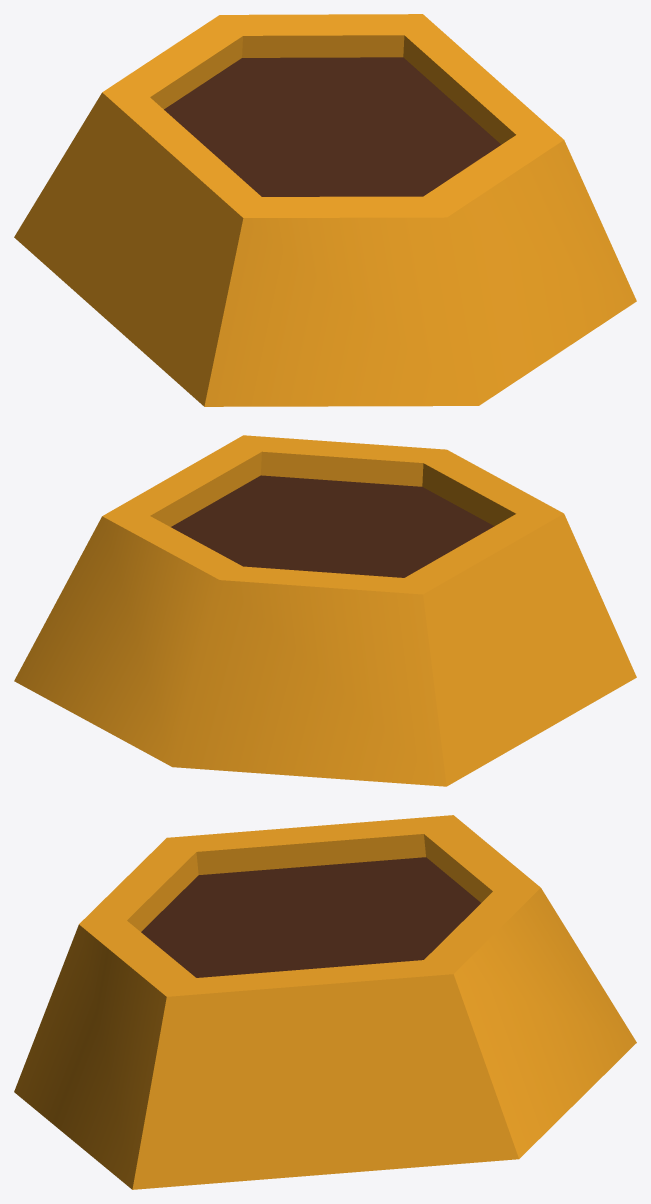
Rendered from Poleyn 01.FBX.
3 views of the same model, one above another, from view 1: azimuth 30°, elevation 25°; view 2: azimuth 150°, elevation 25°; view 3: azimuth 270°, elevation 25° (orthographic).
Visible parts, largest first — view 1: Poleyn 01; view 2: Poleyn 01; view 3: Poleyn 01.
Part boxes in pixels (bbox=[...]): Poleyn 01: bbox=[14, 14, 636, 406]; Poleyn 01: bbox=[14, 435, 636, 786]; Poleyn 01: bbox=[14, 815, 636, 1189].
Bounding box in the file's own units: 9.46 × 11.61 × 4.2.
